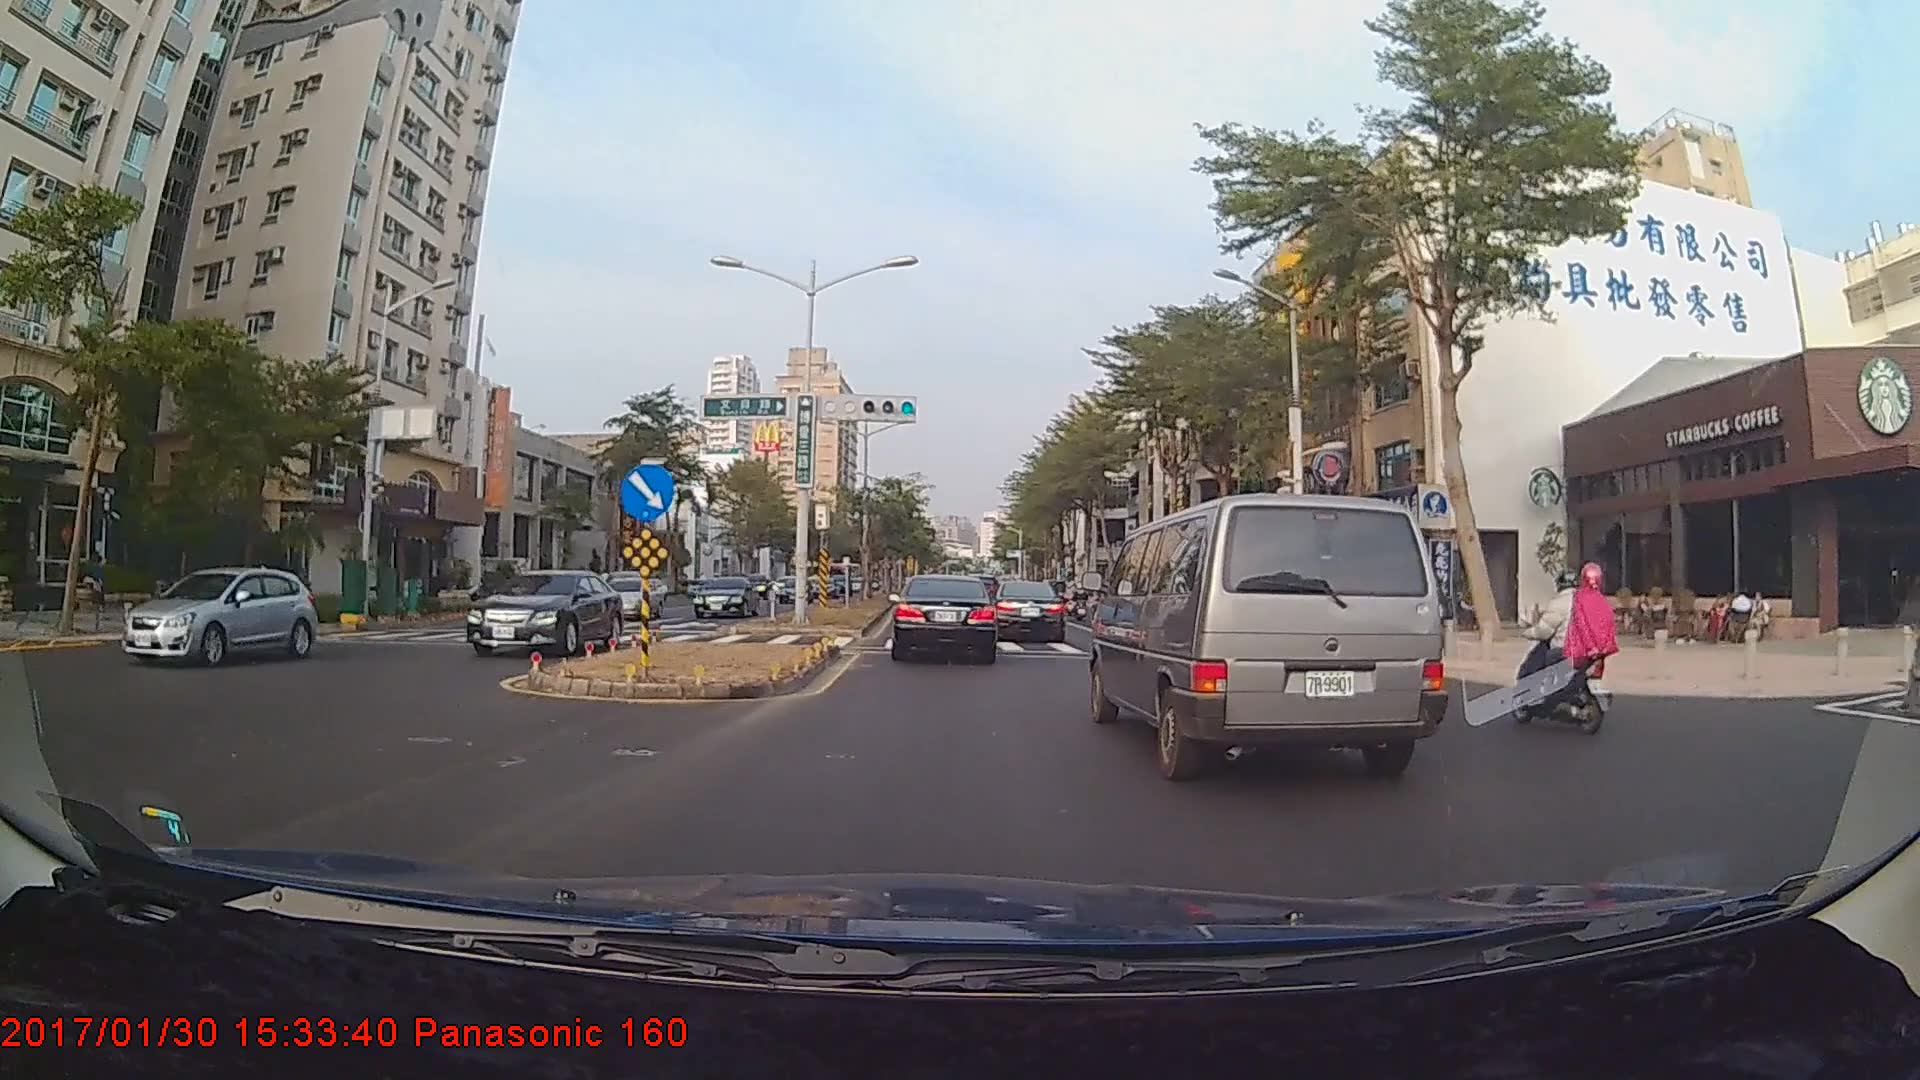rider: (1509, 558, 1632, 740)
vehicle: (1096, 487, 1449, 779), (121, 563, 313, 669), (463, 569, 621, 660), (890, 575, 1000, 663), (989, 577, 1067, 646), (689, 574, 756, 619)
